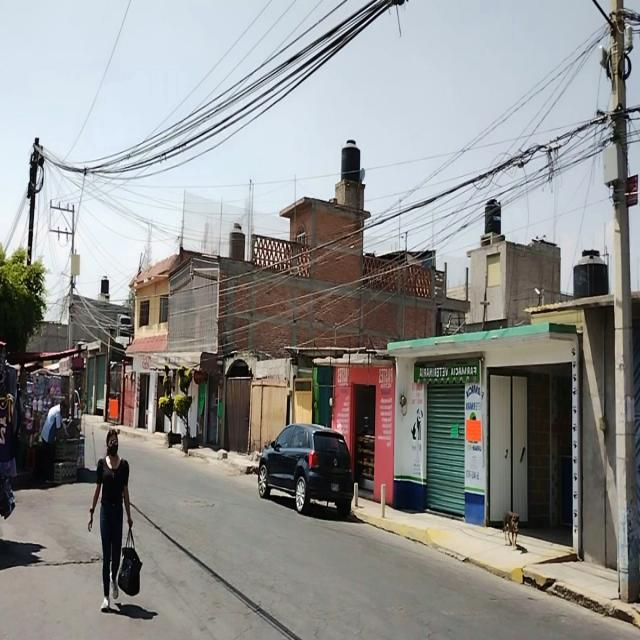adult: (89, 427, 132, 614)
